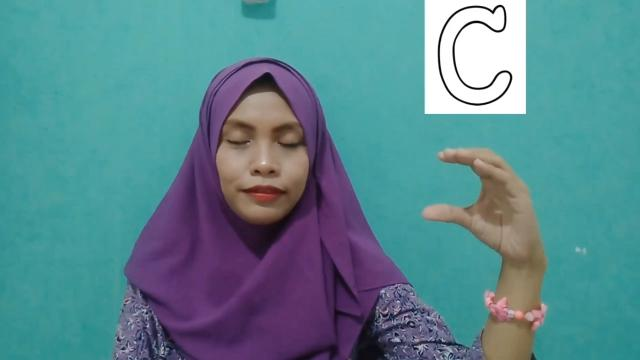C: (422, 146, 546, 272)
